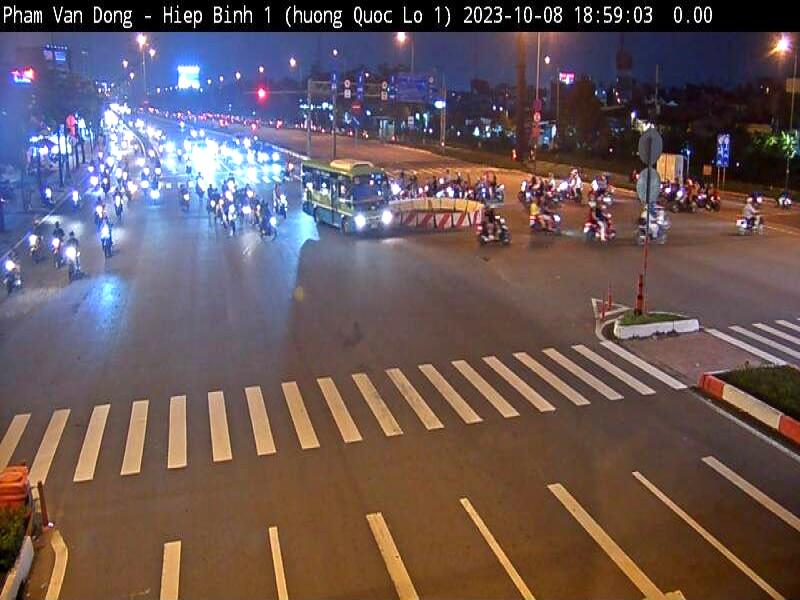bus: (297, 155, 396, 241)
